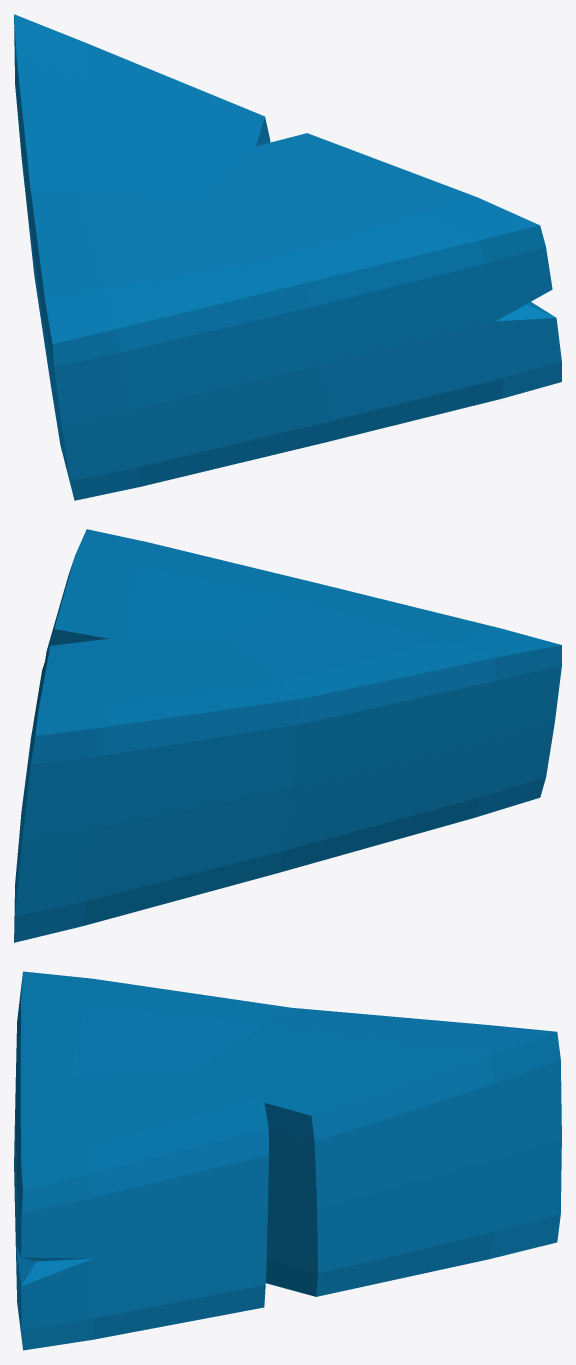
Rendered from Blue3.fbx.
The picture shows the model from 3 angles, top to bottom: view 1: azimuth 30°, elevation 25°; view 2: azimuth 150°, elevation 25°; view 3: azimuth 270°, elevation 25°; orthographic projection. The views are drawn at different scales.
Parts seen in each view (by area): view 1: triangle; view 2: triangle; view 3: triangle.
Part boxes in pixels (x1,y1,x2,y2): triangle: [14, 14, 561, 500]; triangle: [14, 529, 561, 942]; triangle: [14, 971, 561, 1350].
Size of the model in its own units: 1.86 by 0.7853 by 1.88.
